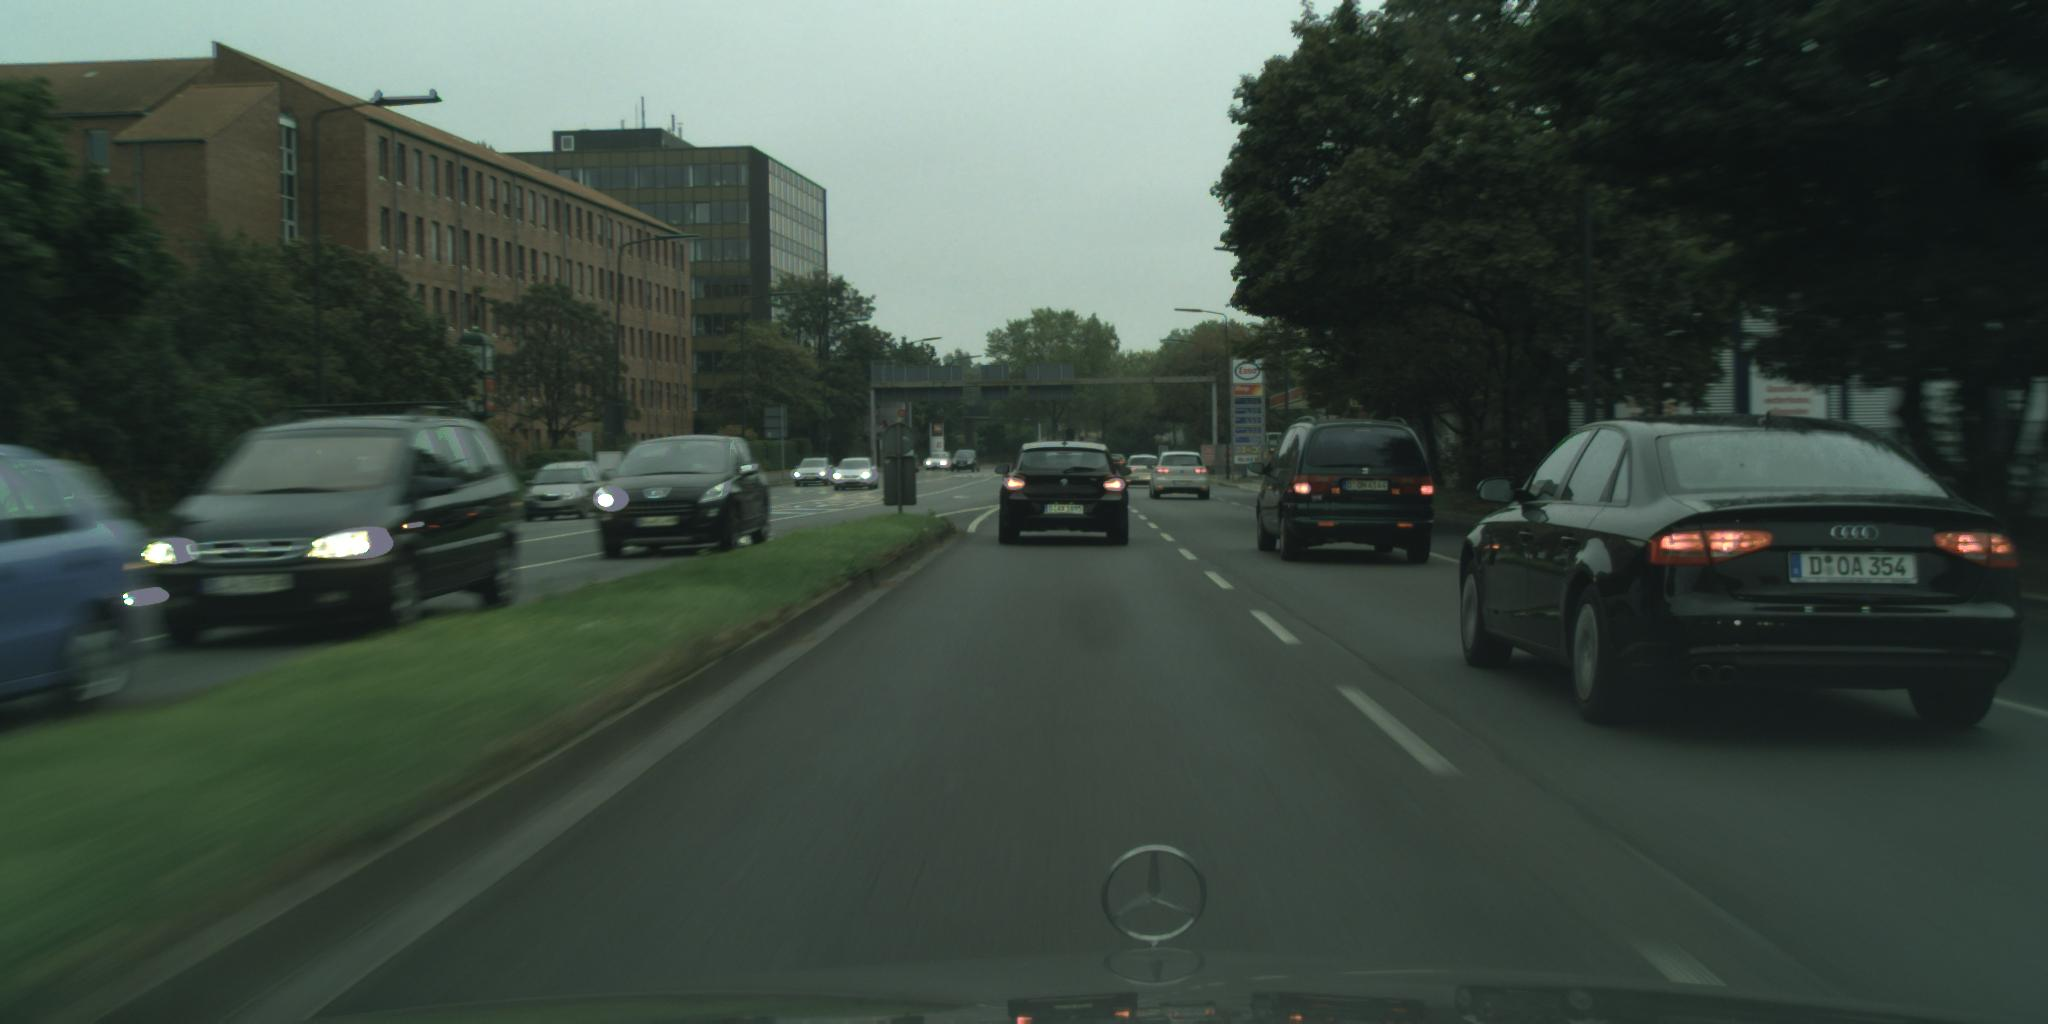car: (1459, 413, 2027, 734), (155, 402, 525, 654), (1, 444, 149, 718), (1249, 415, 1435, 566), (596, 435, 772, 562), (993, 440, 1134, 549), (524, 460, 618, 522), (1148, 451, 1212, 502), (833, 457, 882, 492), (1121, 455, 1162, 490), (793, 458, 839, 488), (951, 449, 980, 473), (923, 452, 955, 472), (901, 447, 921, 475), (1106, 455, 1128, 479)
